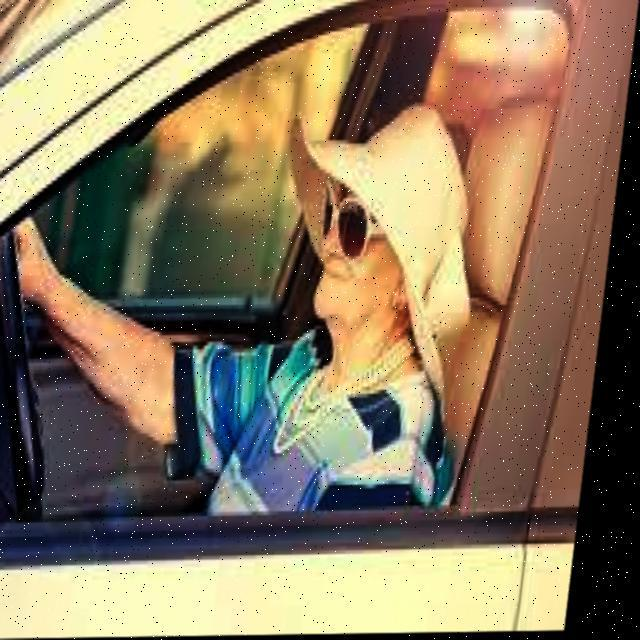noSeatbelt: (195, 302, 492, 529)
